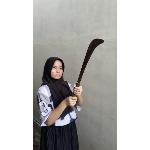Golok: (70, 37, 108, 98)
